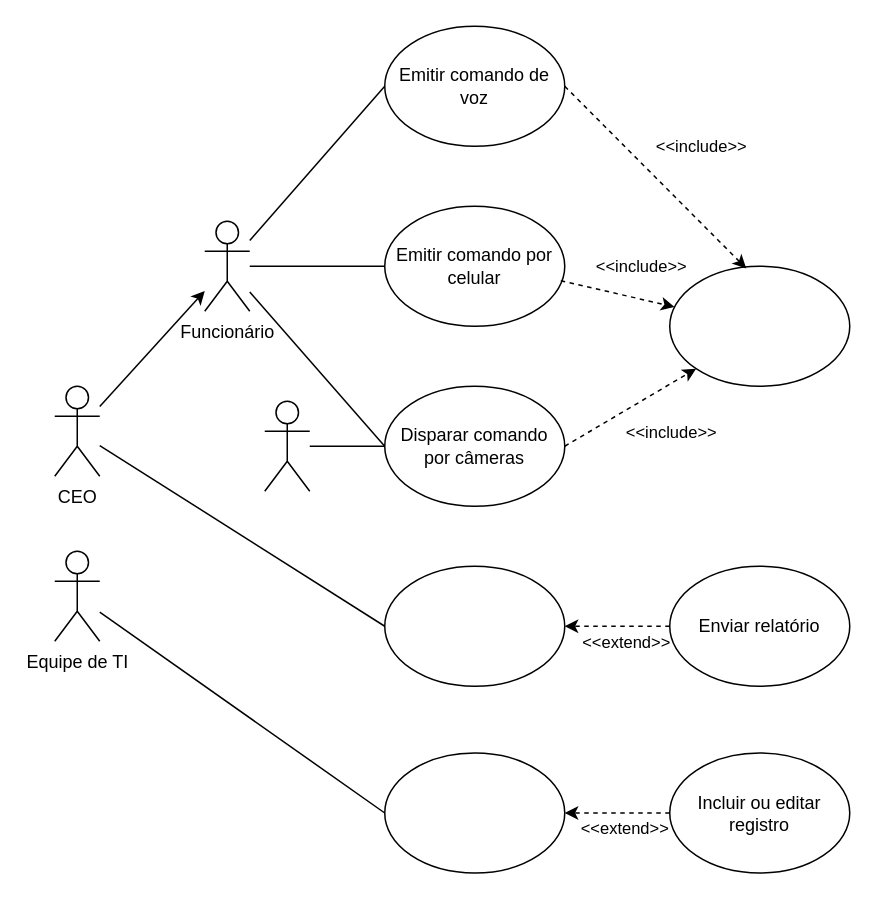
Some shapes in this 876 by 900 pixel diagram are drawn without their labels. The shapes that lost their labels are listed below. From the top down, each one's centre as x and y in pixels, then its label:
pixel 759 325: Validar comando
pixel 286 445: Cliente
pixel 474 625: Consultar relatórios do sistema
pixel 474 812: Acessar banco de dados
